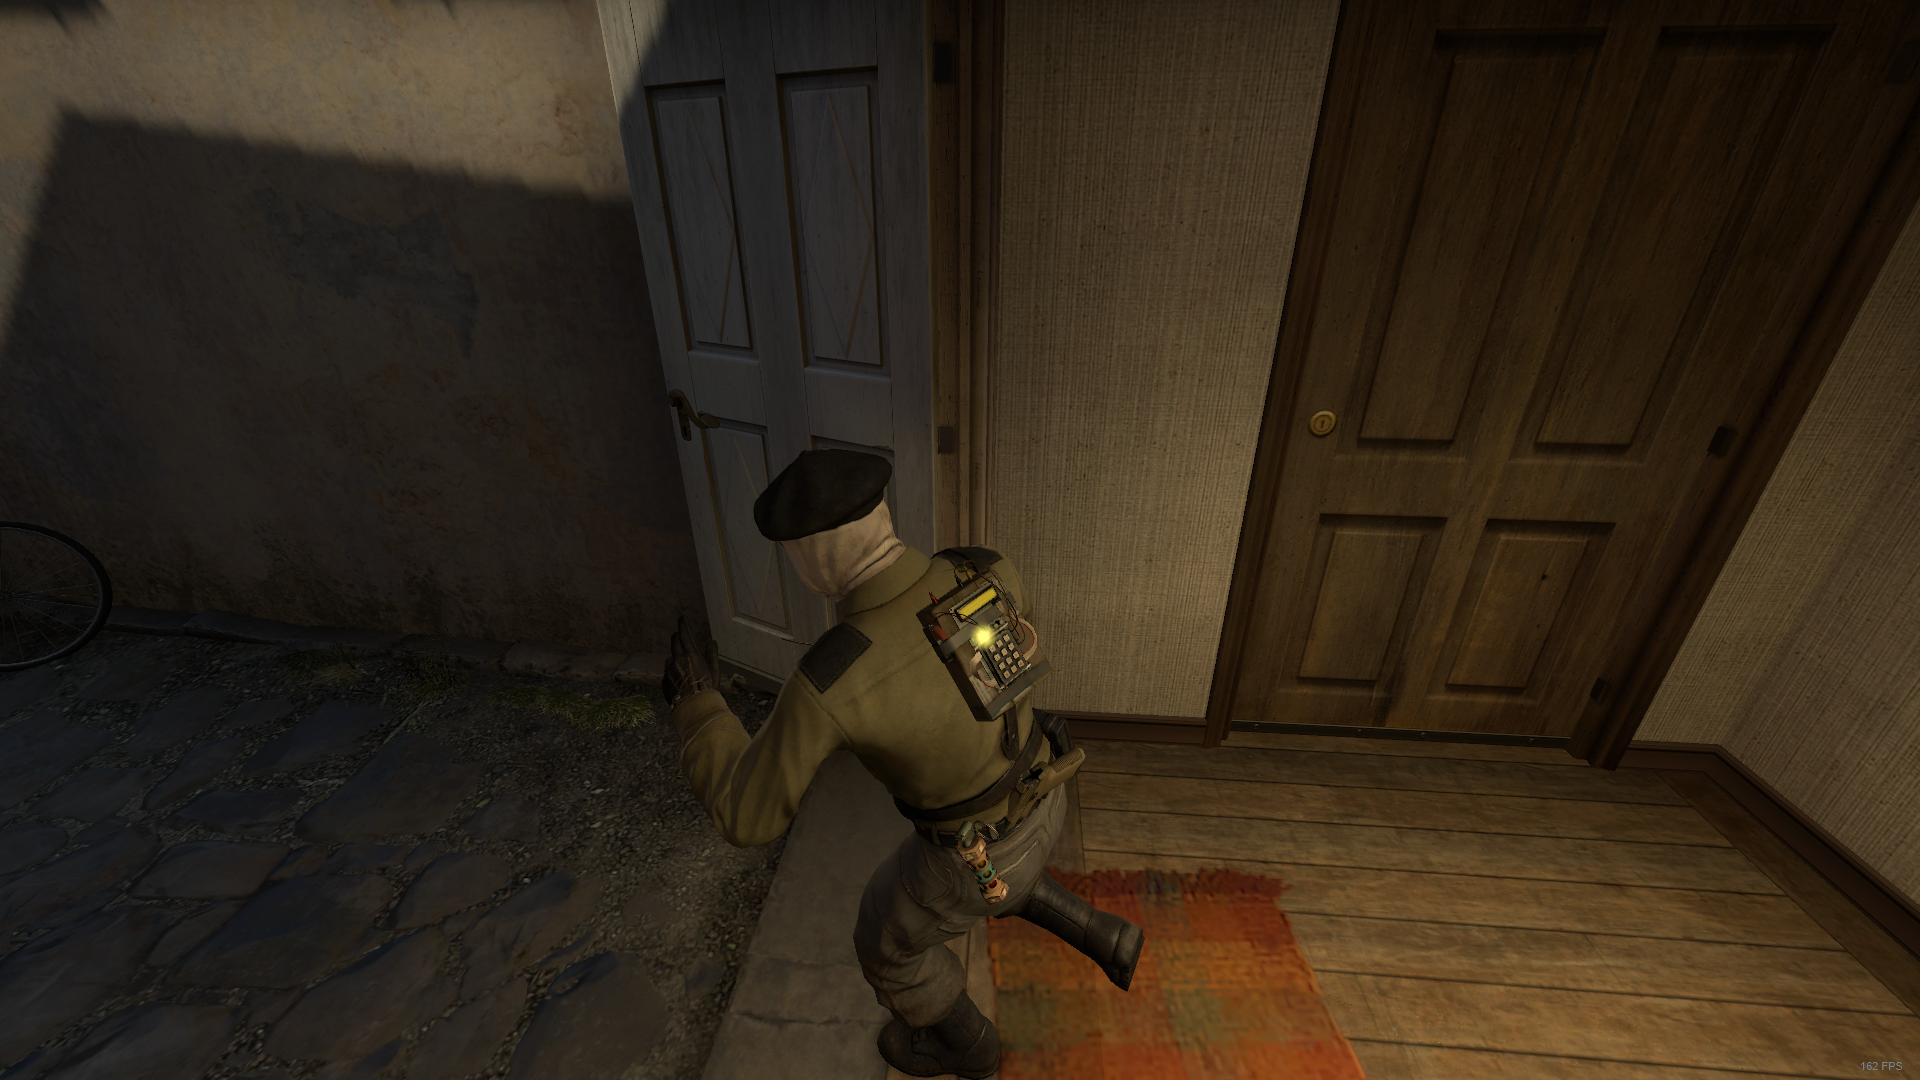t: (663, 450, 1143, 1073)
